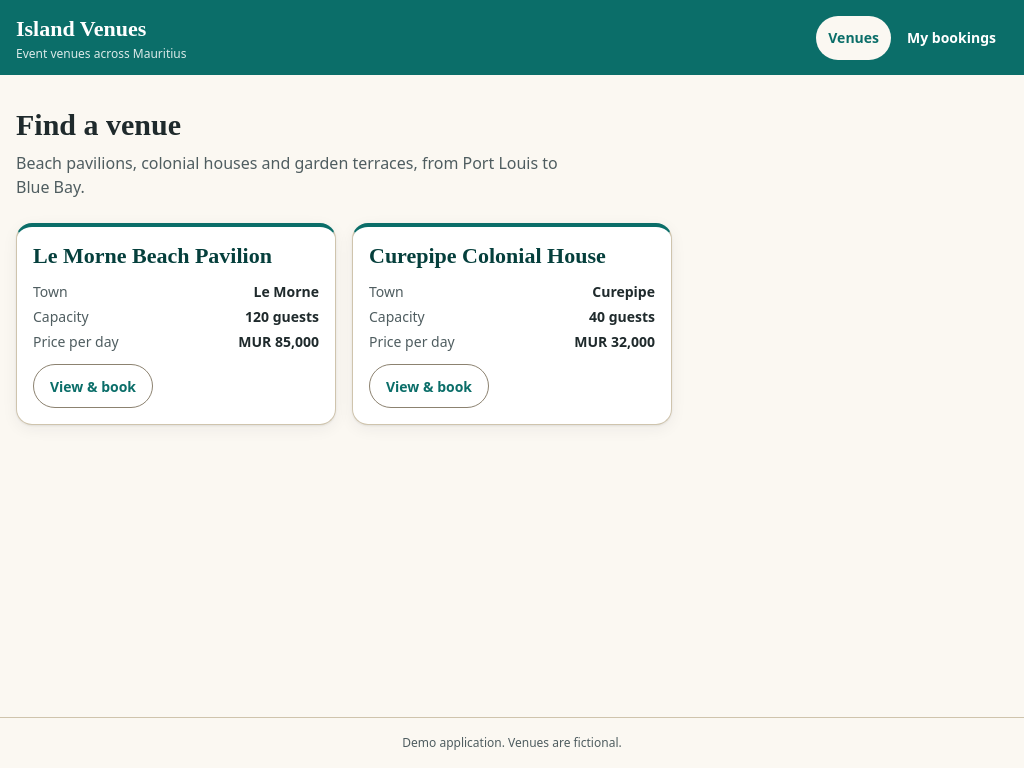
Scenario: App › shows "Sign in required" on My bookings when the API answers 401
Click the button "My bookings" at (952, 38), box [895, 16, 1008, 60]
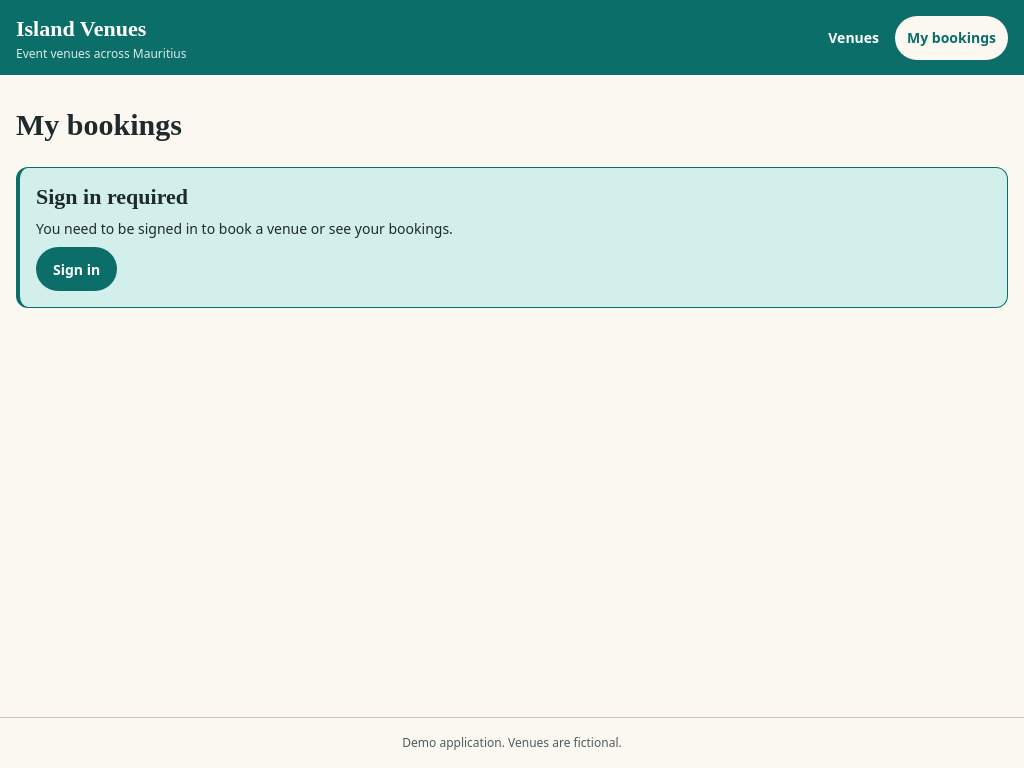
Now the heading "Sign in required" is shown, box [36, 184, 188, 209]
